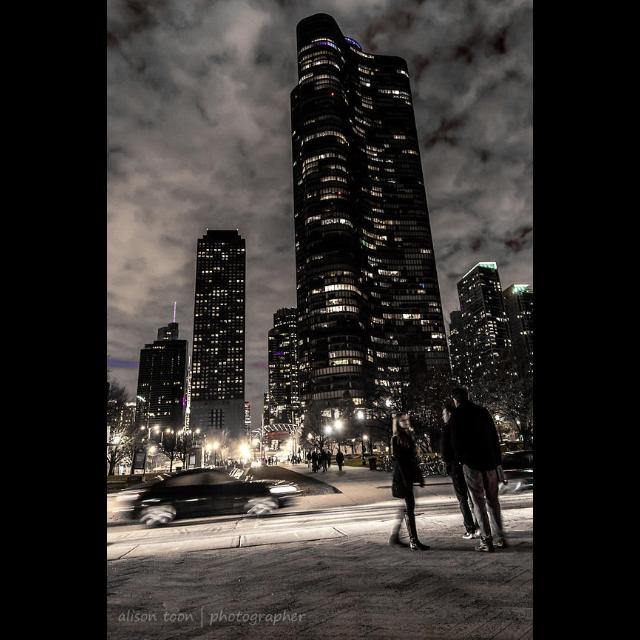head: (452, 387, 472, 409), (442, 405, 458, 425), (397, 413, 413, 429), (322, 450, 326, 454), (338, 451, 342, 454), (328, 452, 332, 454), (309, 453, 311, 455), (314, 452, 316, 454)
person: (447, 386, 513, 554), (438, 405, 488, 541), (388, 412, 434, 552), (336, 449, 346, 473), (320, 449, 330, 473), (311, 450, 319, 474), (326, 450, 334, 470), (306, 452, 314, 470)
